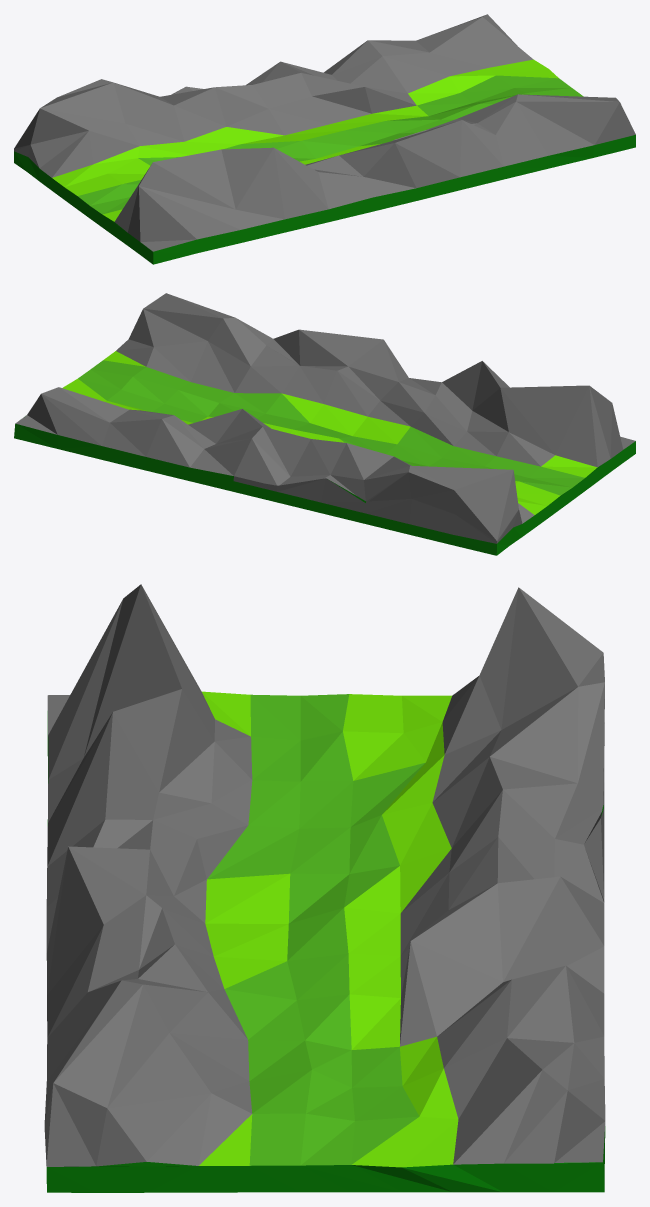
Rendered from PlaneSummer3.fbx.
3 views of the same model, one above another, from view 1: azimuth 30°, elevation 25°; view 2: azimuth 150°, elevation 25°; view 3: azimuth 270°, elevation 25° (orthographic). The views are drawn at different scales.
Parts seen in each view (by area): view 1: PlaneSummer3.Cliffs, PlaneSummer3.Grass1, PlaneSummer3.Floor, PlaneSummer3.Grass; view 2: PlaneSummer3.Cliffs, PlaneSummer3.Grass, PlaneSummer3.Floor, PlaneSummer3.Grass1; view 3: PlaneSummer3.Cliffs, PlaneSummer3.Grass, PlaneSummer3.Grass1, PlaneSummer3.Floor.
Part boxes in pixels (x1,y1,x2,y2): PlaneSummer3.Cliffs: (14,14,635,251); PlaneSummer3.Grass1: (52,59,558,221); PlaneSummer3.Floor: (14,134,635,264); PlaneSummer3.Grass: (78,75,583,214); PlaneSummer3.Cliffs: (15,293,635,543); PlaneSummer3.Grass: (78,360,584,495); PlaneSummer3.Floor: (14,423,635,555); PlaneSummer3.Grass1: (62,351,597,514); PlaneSummer3.Cliffs: (44,584,605,1166); PlaneSummer3.Grass: (207,694,425,1165); PlaneSummer3.Grass1: (199,691,458,1167); PlaneSummer3.Floor: (46,711,605,1192).
Size of the model in its own units: 40387 by 6359 by 20147.
